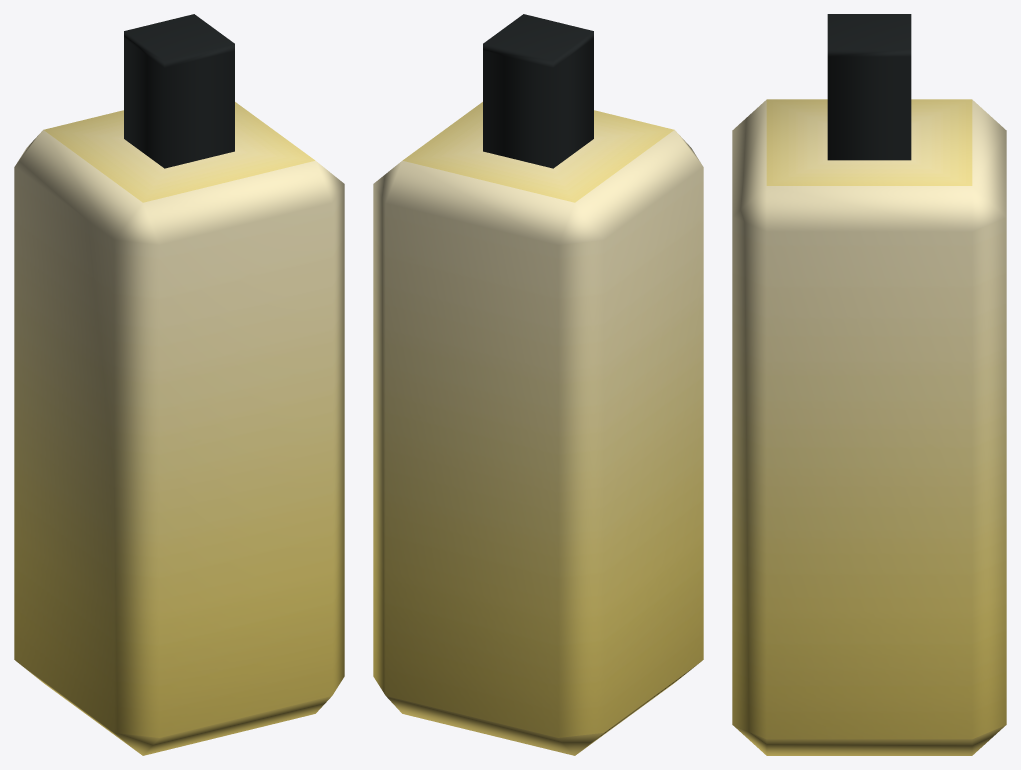
The model's file is candle_medium_1.fbx.
The picture shows the model from 3 angles, left to right: view 1: azimuth 30°, elevation 25°; view 2: azimuth 150°, elevation 25°; view 3: azimuth 270°, elevation 25°; orthographic projection. The views are drawn at different scales.
Parts seen in each view (by area): view 1: candle_medium_1; view 2: candle_medium_1; view 3: candle_medium_1.
Boxes of the visible parts, <box> form: candle_medium_1: <box>14,14,344,755</box>; candle_medium_1: <box>373,14,703,755</box>; candle_medium_1: <box>732,14,1006,755</box>.
Size of the model in its own units: 26.94 by 73.87 by 26.94.
